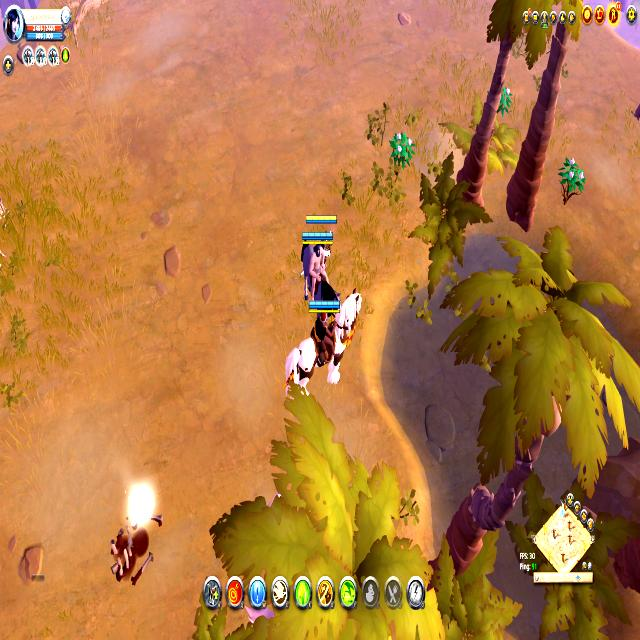hide: (560, 155, 584, 198), (390, 129, 413, 168), (496, 85, 514, 115)
red: (298, 296, 352, 388), (301, 230, 333, 292), (304, 212, 338, 227)
stone: (130, 484, 159, 534)
